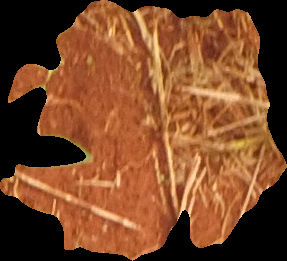soil: (1, 1, 287, 260)
